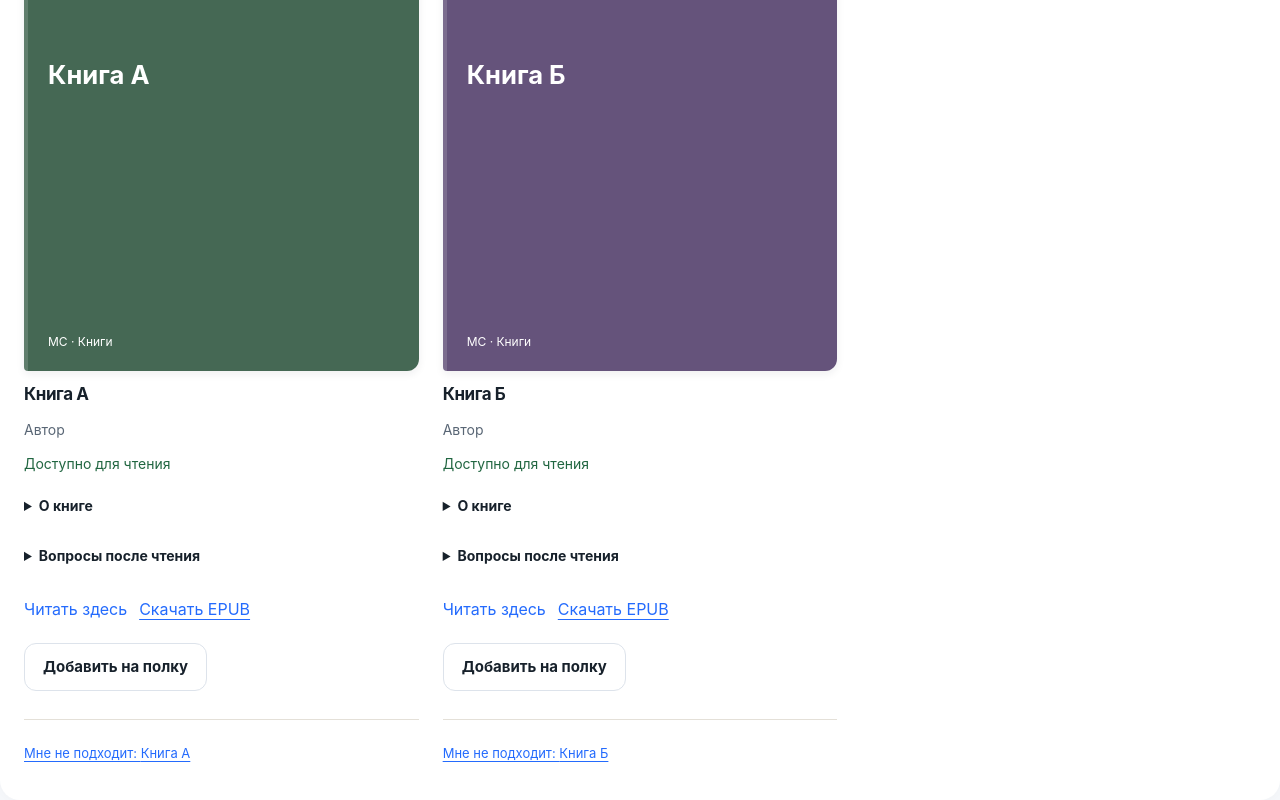
Test: unsuitable book offers another book from the same interest
The width and height of the screenshot is (1280, 800).
(page scrolled)
Check: the heading "Книга А" is shown, box [24,384,88,404]
Click the button "Мне не подходит: Книга А": (107, 754) [24,732,190,776]
(page scrolled)
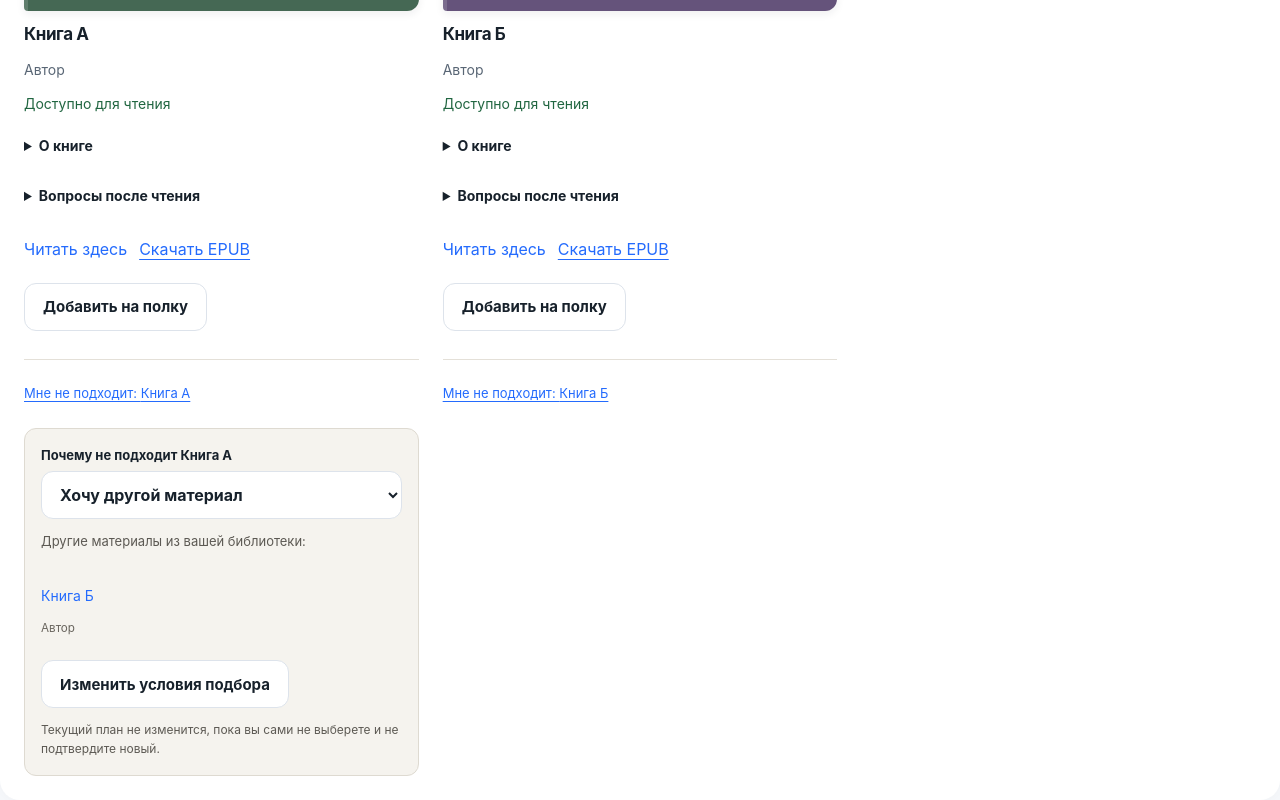
Click the button "Книга Б": (67, 595) [41,574,402,618]
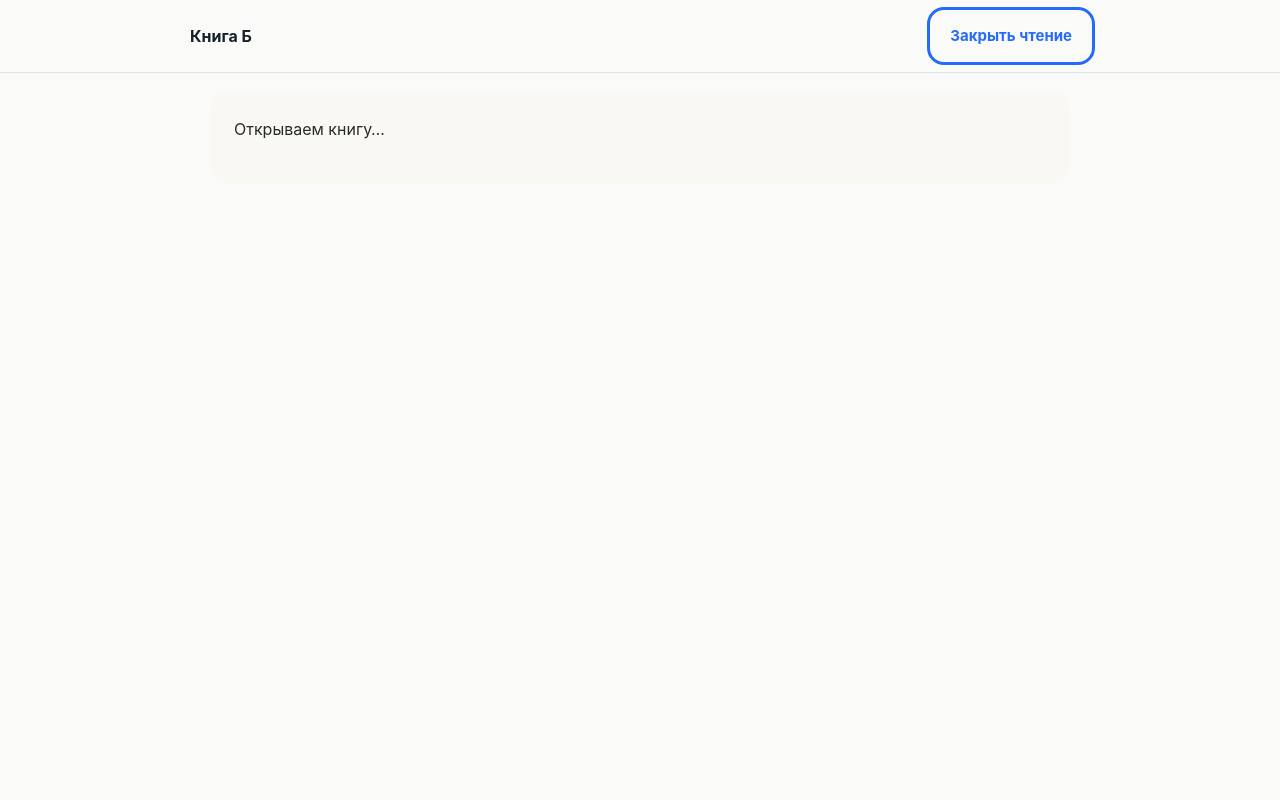
Check: the element named "Чтение Книга Б" is shown, box [210,93,1070,183]
